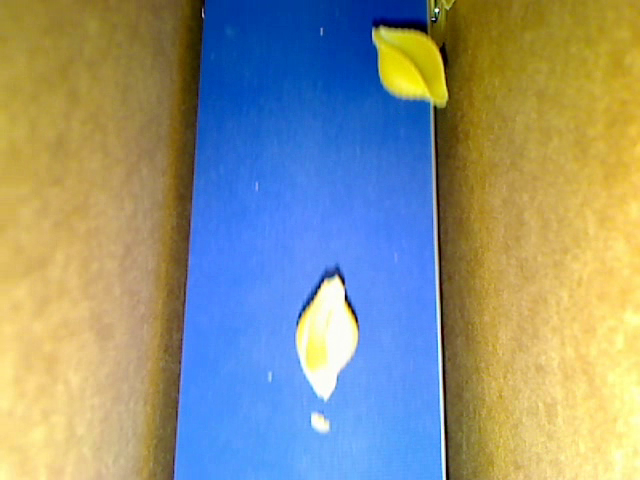penne: (428, 1, 448, 55), (441, 1, 457, 12)
shell: (295, 275, 359, 404), (370, 24, 449, 107)
